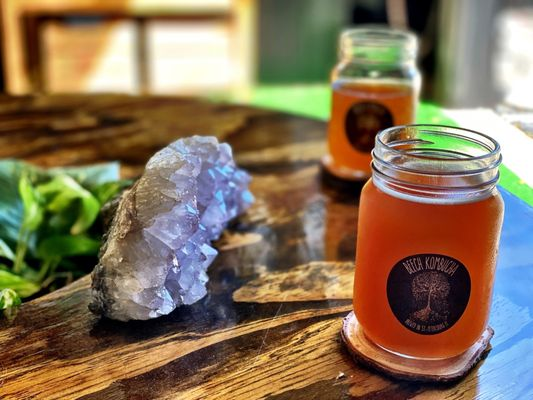burger: (340, 123, 505, 380), (320, 29, 420, 189)
curry: (2, 43, 531, 397)
pasta: (2, 0, 259, 102)
